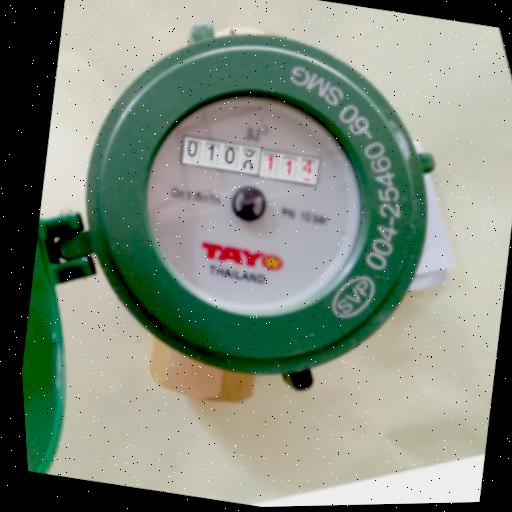0: (182, 139, 201, 162), (219, 145, 238, 167)
1: (201, 142, 220, 165), (279, 155, 297, 178), (260, 152, 278, 174)
4: (297, 158, 315, 182)
9: (239, 148, 257, 171)
border_water_meter_number: (176, 130, 322, 190)
